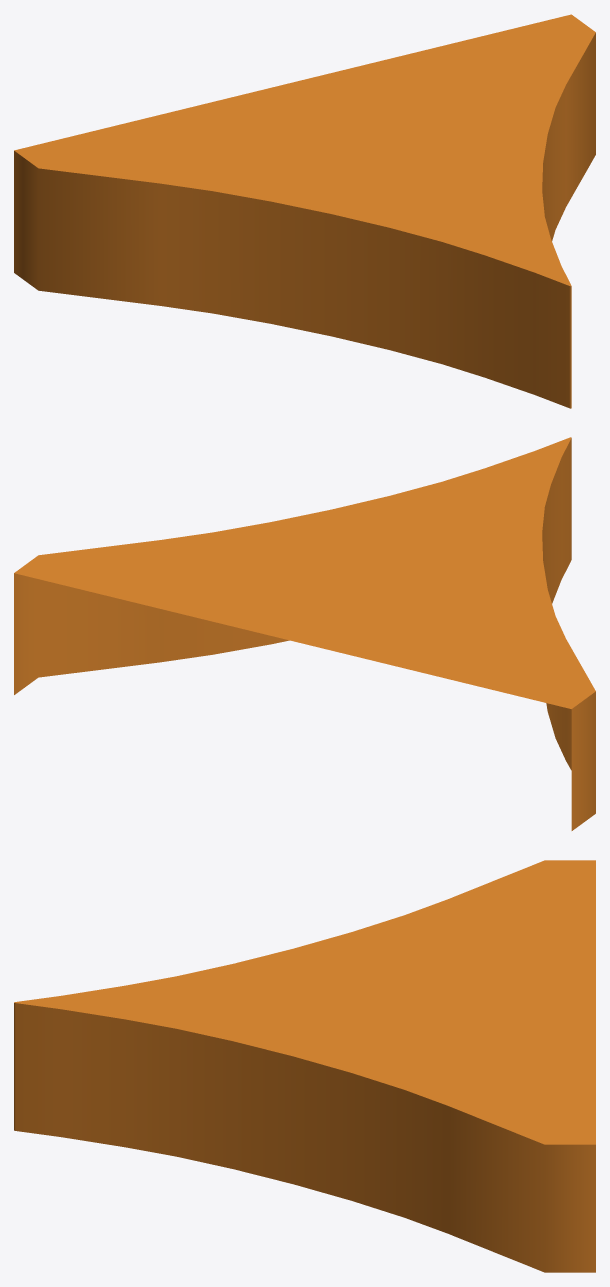
File: Splitter_2.fbx
The picture shows the model from 3 angles, top to bottom: view 1: azimuth 30°, elevation 25°; view 2: azimuth 150°, elevation 25°; view 3: azimuth 270°, elevation 25°; orthographic projection. The views are drawn at different scales.
Visible parts, largest first — view 1: Splitter_2; view 2: Splitter_2; view 3: Splitter_2.
Boxes of the visible parts, x1=… form: Splitter_2: x1=14, y1=14, x2=595, y2=408; Splitter_2: x1=14, y1=437, x2=595, y2=830; Splitter_2: x1=14, y1=860, x2=595, y2=1272.
Size of the model in its own units: 383 by 80.29 by 331.
